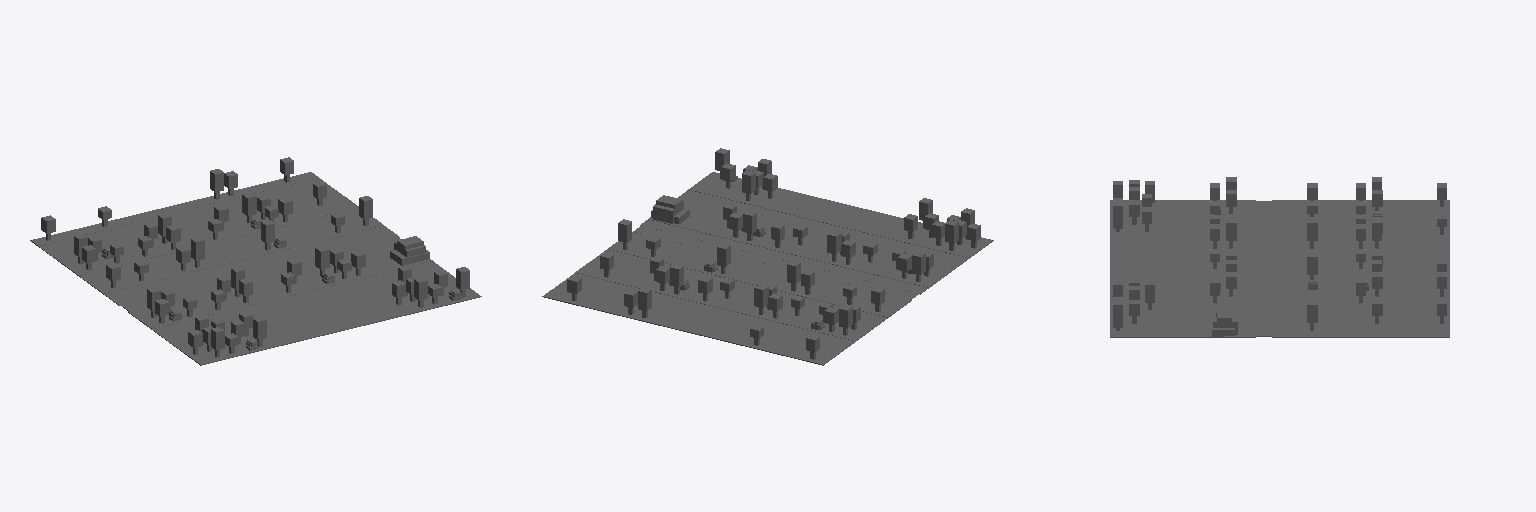
Rendered from map_01.obj.
The picture shows the model from 3 angles: view 1: azimuth 30°, elevation 25°; view 2: azimuth 150°, elevation 25°; view 3: azimuth 270°, elevation 25°; orthographic projection.
Visible parts, largest first — view 1: road002; view 2: road002; view 3: road002.
Part boxes in pixels (x1,y1,x2,y2): road002: (30,157,481,365); road002: (542,148,993,365); road002: (1110,177,1449,337).
Size of the model in its own units: 100 by 10.07 by 105.